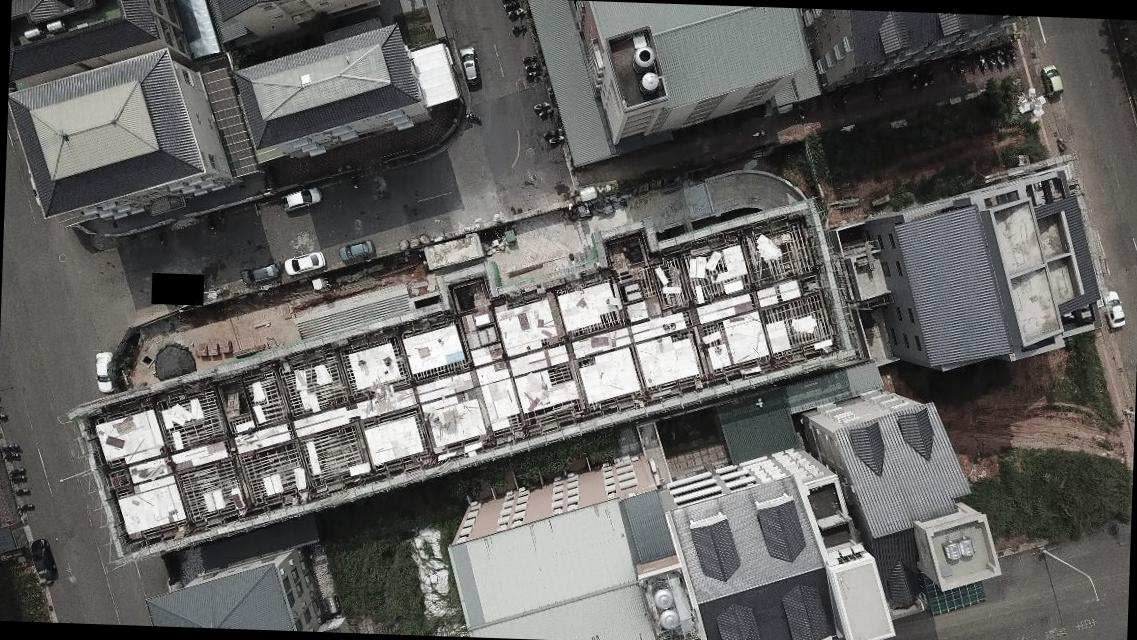vehicle: (27, 538, 60, 580), (274, 184, 322, 212), (280, 251, 324, 277), (335, 238, 376, 264), (238, 262, 279, 286), (1103, 290, 1127, 330), (456, 44, 479, 84), (94, 351, 114, 394), (1040, 64, 1065, 98)
